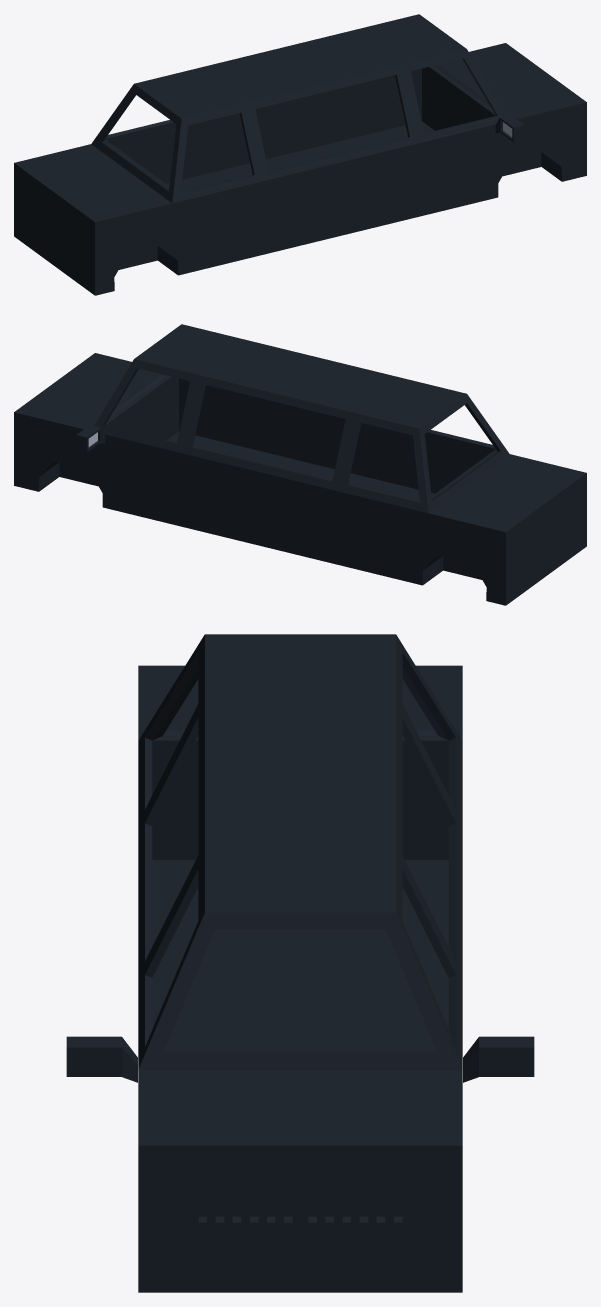
File: Car.glb
The picture shows the model from 3 angles, top to bottom: view 1: azimuth 30°, elevation 25°; view 2: azimuth 150°, elevation 25°; view 3: azimuth 270°, elevation 25°; orthographic projection. The views are drawn at different scales.
Parts seen in each view (by area): view 1: Cube.065; view 2: Cube.065; view 3: Cube.065.
Boxes of the visible parts, bbox=[...] form: Cube.065: bbox=[14, 14, 586, 295]; Cube.065: bbox=[14, 324, 586, 605]; Cube.065: bbox=[66, 634, 534, 1292].
Size of the model in its own units: 0.2258 by 0.0613 by 0.0929.
1 material, 1 textured.
